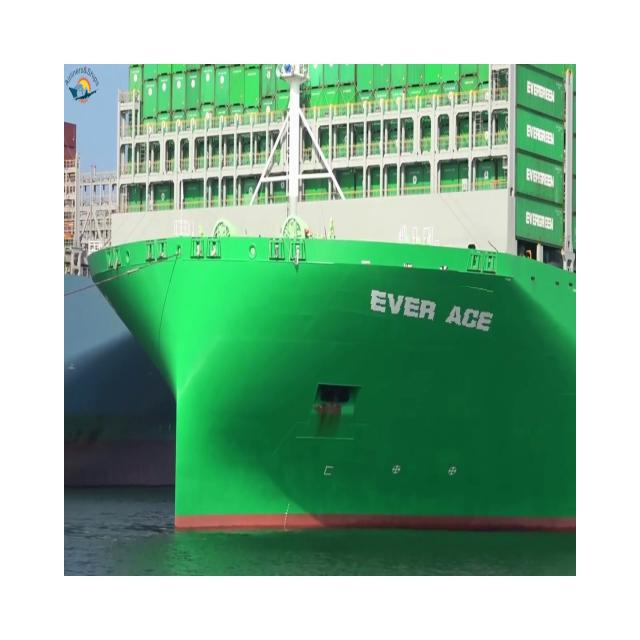OCR: (347, 272, 493, 340)
